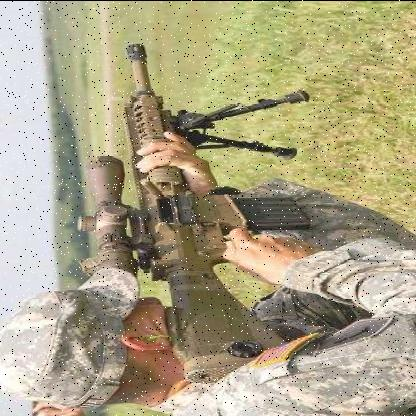rifle: (70, 35, 311, 379)
